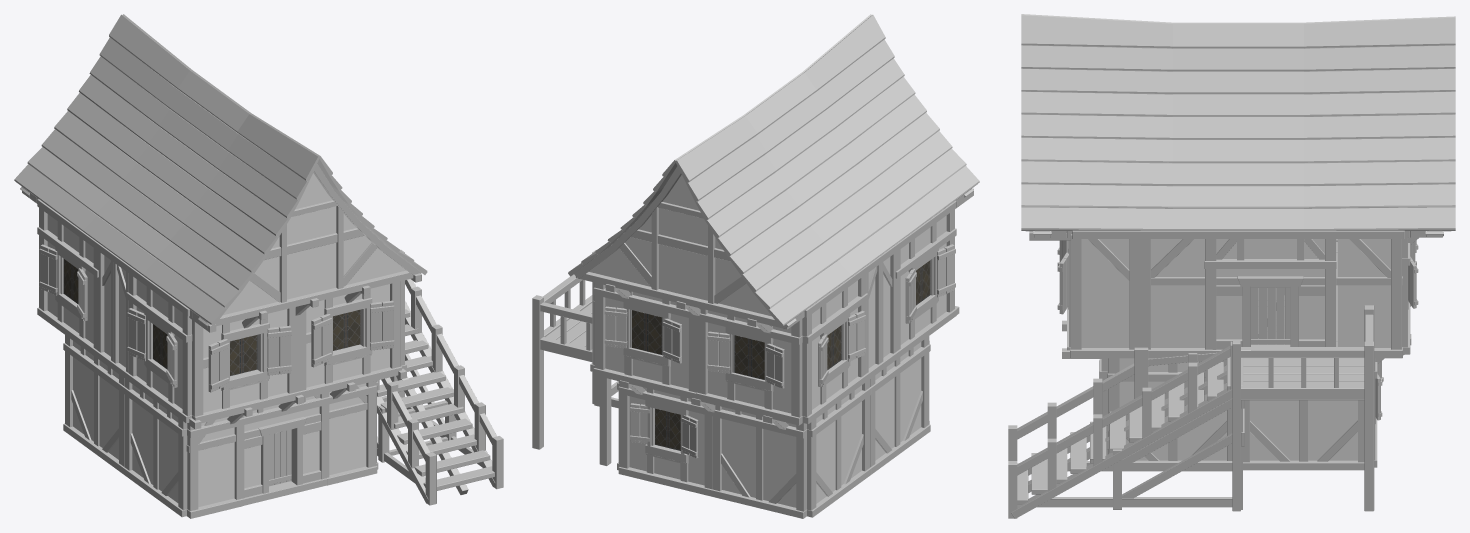
Rendered from House_1A3.fbx.
3 views of the same model, side by side, from view 1: azimuth 30°, elevation 25°; view 2: azimuth 150°, elevation 25°; view 3: azimuth 270°, elevation 25° (orthographic). The views are drawn at different scales.
Visible parts, largest first — view 1: House_1A3, Cube.2371, Plane.342, Plane.343, Plane.374; view 2: House_1A3, Plane.350, Plane.351, Plane.352, Plane.373, Plane.374; view 3: House_1A3, Cube.2370.
Boxes of the visible parts, x1,y1,x2,y2 form: House_1A3: [14, 14, 503, 518]; Cube.2371: [269, 429, 291, 486]; Plane.342: [230, 335, 257, 375]; Plane.343: [333, 310, 360, 350]; Plane.374: [63, 259, 78, 303]; House_1A3: [532, 14, 979, 518]; Plane.350: [734, 335, 764, 379]; Plane.351: [632, 310, 662, 354]; Plane.352: [655, 408, 680, 450]; Plane.373: [916, 260, 930, 305]; Plane.374: [827, 325, 841, 370]; House_1A3: [1008, 14, 1455, 518]; Cube.2370: [1251, 286, 1290, 344].
Size of the model in its own units: 1155 by 1378 by 1368.
